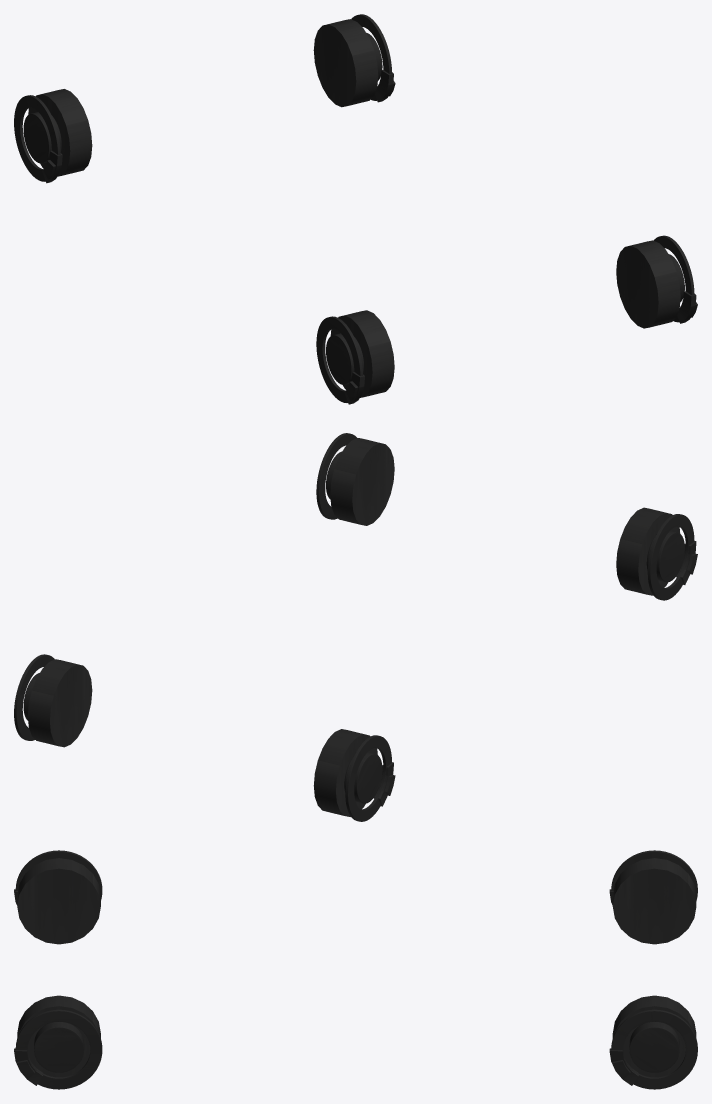
File: brakeDiscs.obj
3 renders of one model, top to bottom at view 1: azimuth 30°, elevation 25°; view 2: azimuth 150°, elevation 25°; view 3: azimuth 270°, elevation 25°, orthographic.
Visible parts, largest first — view 1: brakeDiscs; view 2: brakeDiscs; view 3: brakeDiscs.
Part boxes in pixels (bbox=[...]): brakeDiscs: bbox=[14, 14, 697, 404]; brakeDiscs: bbox=[14, 433, 697, 821]; brakeDiscs: bbox=[14, 850, 697, 1089].
Bounding box in the file's own units: 171 × 37.91 × 299.
Materials: 1 (1 with a texture image).
